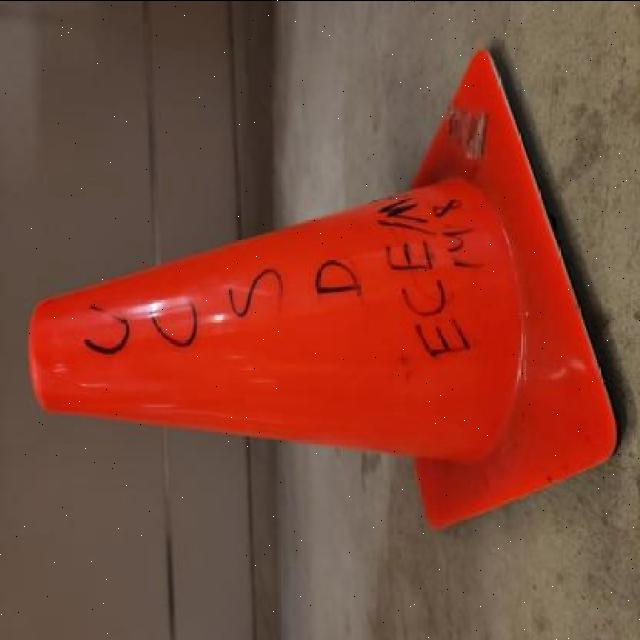traffic cone: (18, 40, 631, 541)
